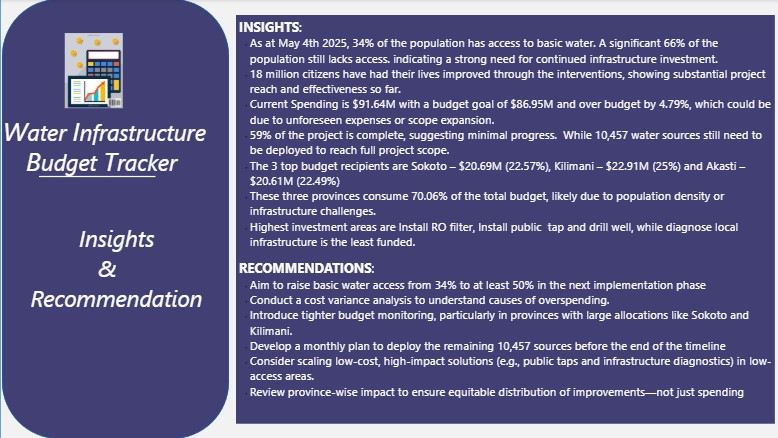

The page's visual inventory and layout, read from the dashboard file:
{"tool":"powerbi","page":{"name":"Insights & Recomm.","canvas":[1280,720],"ordinal":1},"visuals":[{"type":"textbox","box":[291.2,0,989.3,106.8],"z":1000},{"type":"textbox","box":[291.2,0,965.9,106.8],"z":2000},{"type":"shape","box":[0,0,291.2,720],"z":2500,"group":"g1"},{"type":"group","id":"g1","title":"Group 1","box":[0,0,291.2,720],"z":3000},{"type":"group","id":"g2","title":"Group 2","box":[291.2,120,989.3,600],"z":4000},{"type":"textbox","box":[291.2,120,989.3,368.8],"z":4000,"group":"g2"},{"type":"pivotTable","title":"Default Rate by Loan Duration ","fields":{"Values":["Sum(GermanCredit.Observation_ID)"],"Rows":["GermanCredit.Loan duration"]},"box":[7.3,194.6,273.7,146.3],"z":6000,"group":"g1"},{"type":"pivotTable","title":"Default Rate by Residency Status","fields":{"Values":["Sum(GermanCredit.Observation_ID)"],"Rows":["GermanCredit.foreign_worker"]},"box":[20.5,360,283.9,146.3],"z":6500},{"type":"textbox","box":[291.2,500.5,989.3,219.5],"z":8000,"group":"g2"},{"type":"image","box":[58.6,45.7,148.6,148.6],"z":8500,"group":"g1"},{"type":"barChart","title":"Default Rate by Marital Status","fields":{"Category":["GermanCredit.personal_status"],"Y":["GermanCredit.Defaulters"]},"box":[0,502,291.2,218],"z":9000,"group":"g1"}]}

Visuals, with their boxes in screenshot pixels (x1, y1, x2, y2), scaled from the page's 1280x720 canvas onto the 778x438 screenshot:
textbox: bbox=[177, 0, 777, 65]
textbox: bbox=[177, 0, 764, 65]
shape: bbox=[0, 0, 177, 437]
"Group 1" group: bbox=[0, 0, 177, 437]
"Group 2" group: bbox=[177, 73, 777, 437]
textbox: bbox=[177, 73, 777, 297]
"Default Rate by Loan Duration " pivotTable: bbox=[4, 118, 171, 207]
"Default Rate by Residency Status" pivotTable: bbox=[12, 219, 185, 308]
textbox: bbox=[177, 304, 777, 437]
image: bbox=[36, 28, 126, 118]
"Default Rate by Marital Status" barChart: bbox=[0, 305, 177, 437]
